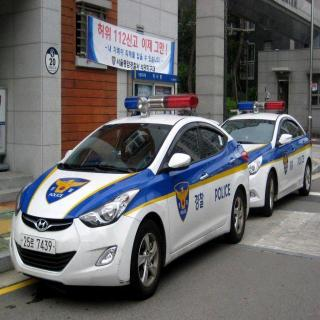Police_car: (12, 97, 248, 296), (225, 101, 313, 211)
